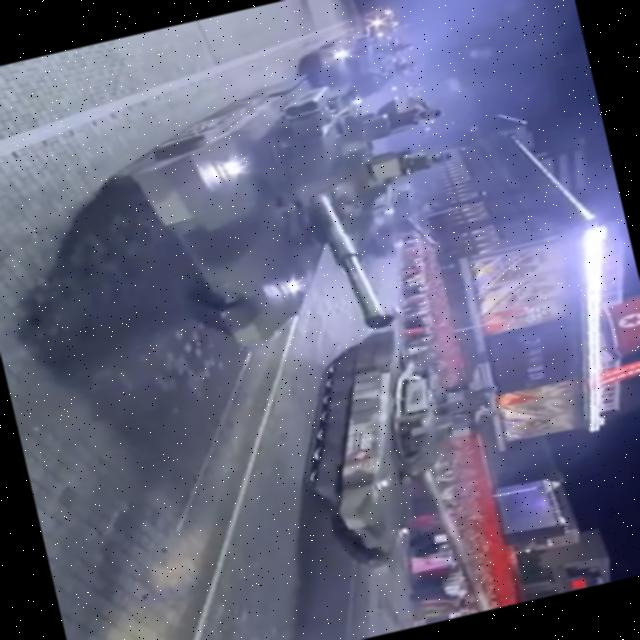north tank: (112, 51, 450, 382), (248, 303, 520, 640), (278, 5, 428, 126)
